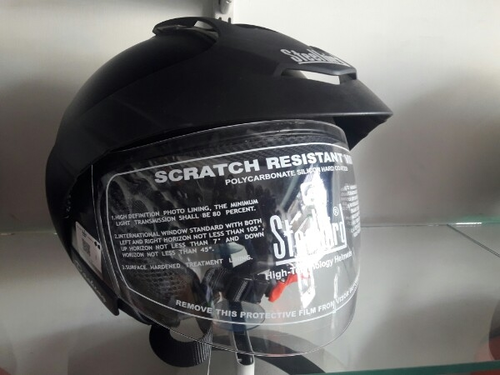with_helmet: (41, 14, 398, 361)
